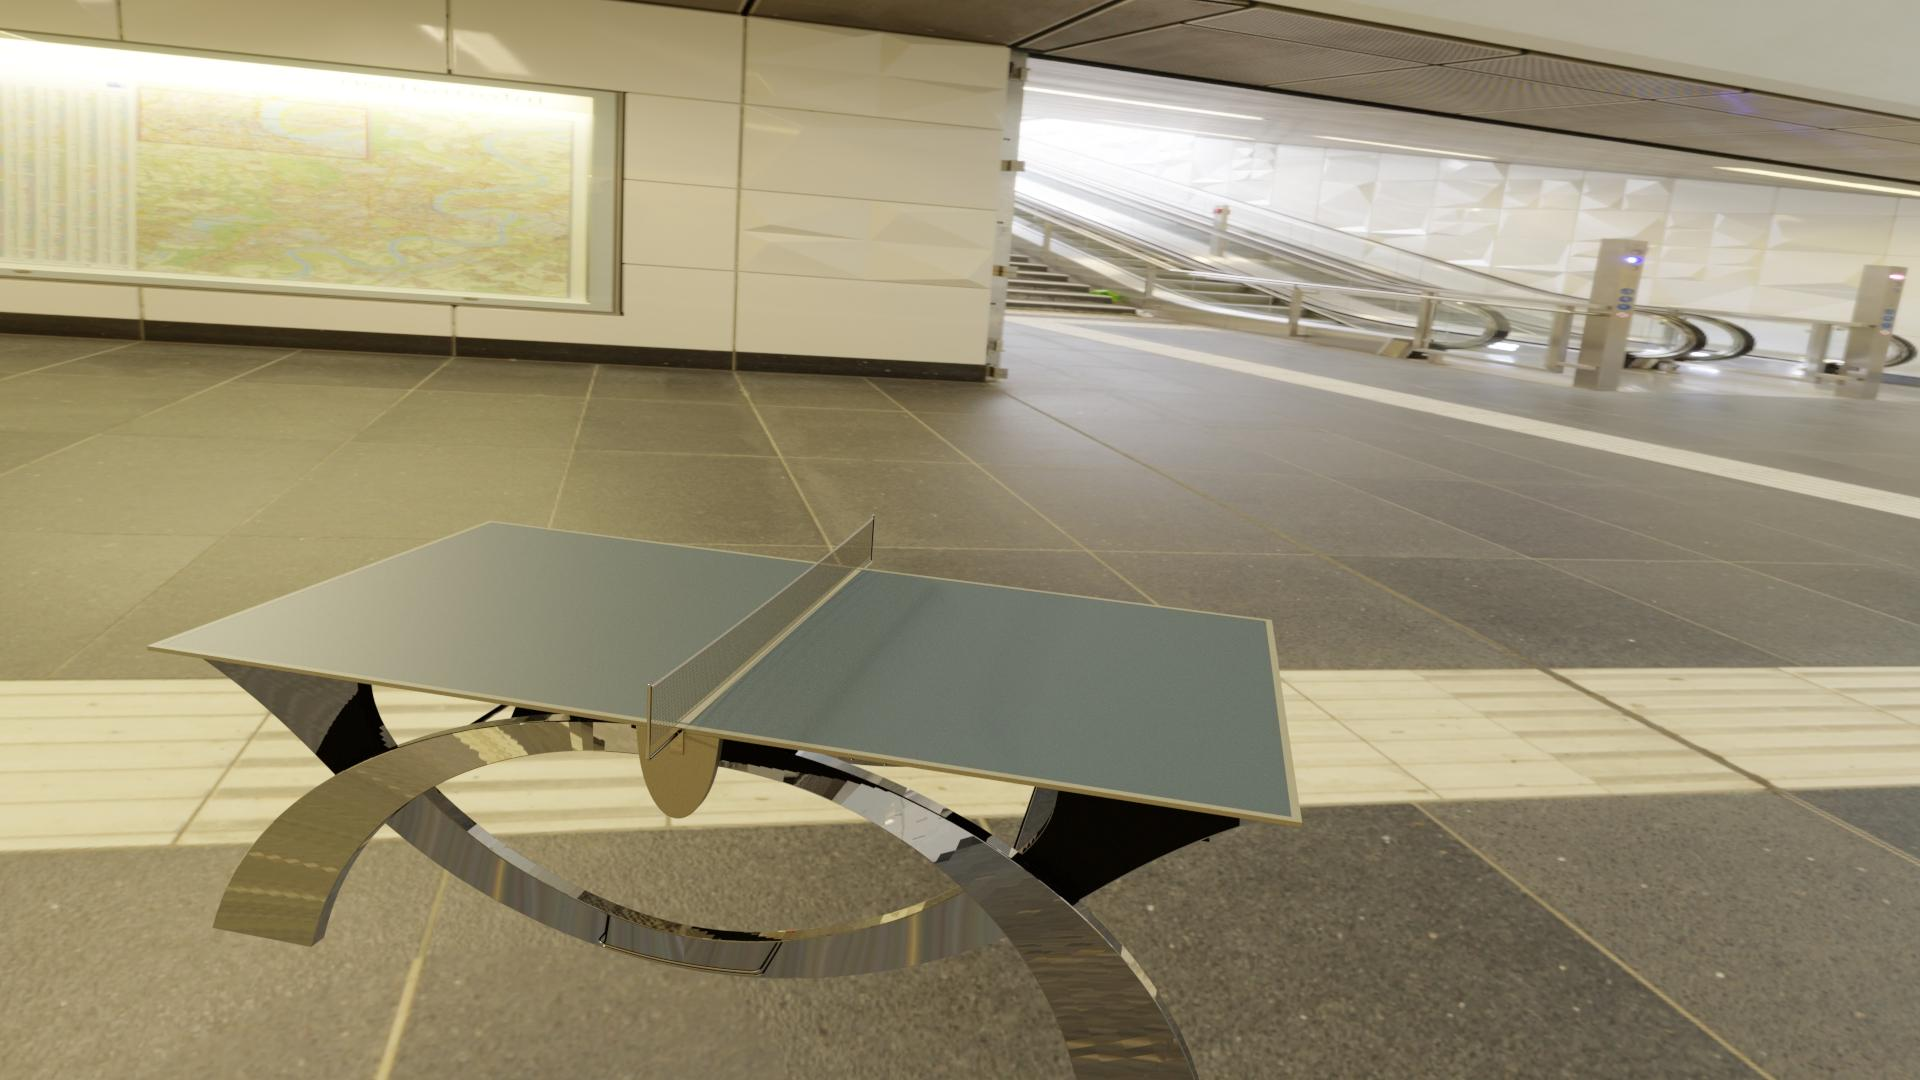table: (161, 522, 1292, 818)
